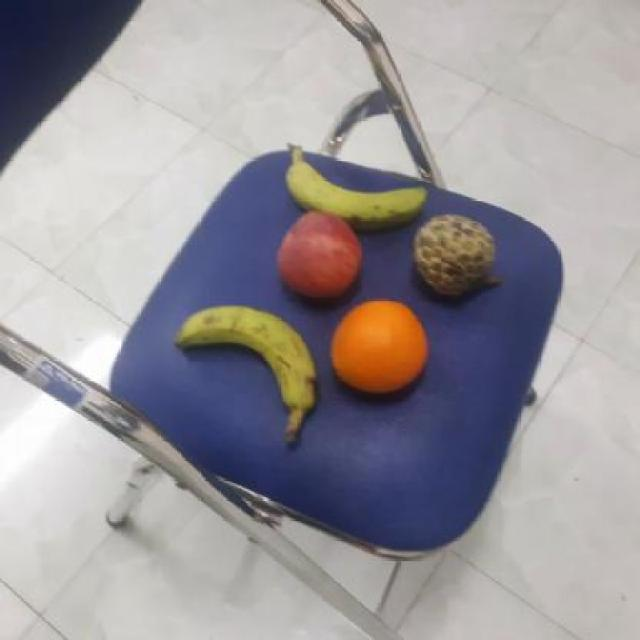apple: (269, 210, 362, 301)
banana: (171, 302, 318, 413), (283, 158, 428, 230)
oren: (328, 296, 430, 399)
sugar apple: (412, 214, 496, 301)
